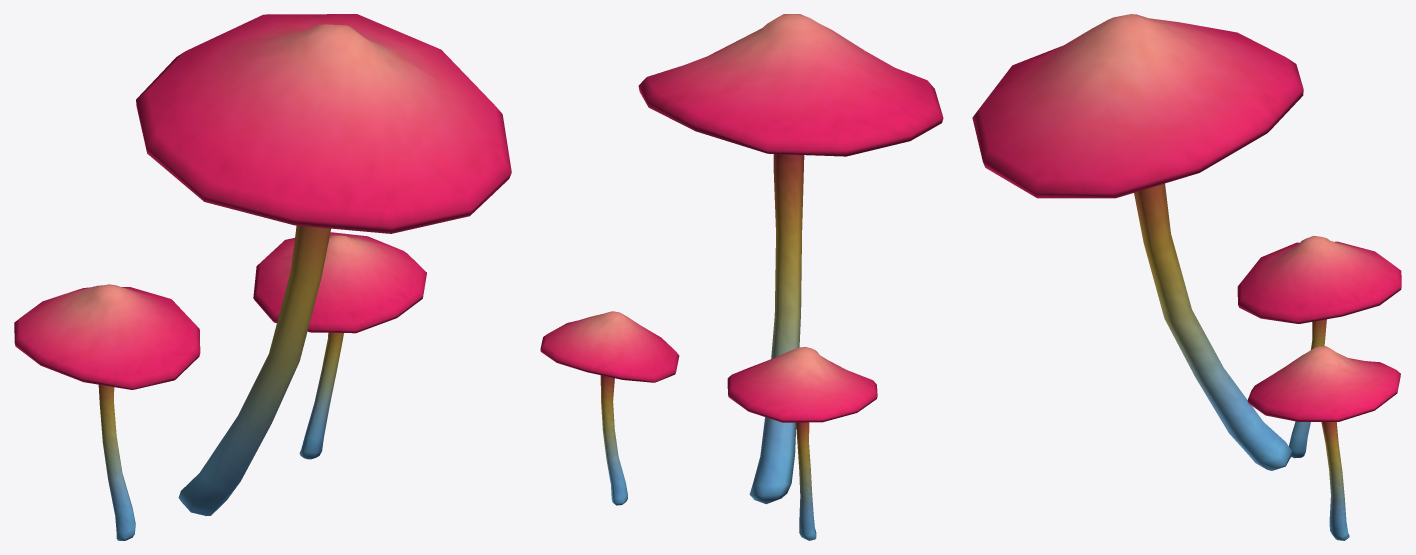
File: Cartoon Seaweed_13-2-46.fbx
3 renders of one model, left to right at view 1: azimuth 30°, elevation 25°; view 2: azimuth 150°, elevation 25°; view 3: azimuth 270°, elevation 25°, orthographic. The views are drawn at different scales.
Visible parts, largest first — view 1: Cartoon Seaweed_13.2.46; view 2: Cartoon Seaweed_13.2.46; view 3: Cartoon Seaweed_13.2.46.
Part boxes in pixels (x1,y1,x2,y2): Cartoon Seaweed_13.2.46: (14, 14, 511, 540); Cartoon Seaweed_13.2.46: (540, 14, 943, 540); Cartoon Seaweed_13.2.46: (972, 14, 1401, 540).
Bounding box in the file's own units: 10.6 × 14.26 × 11.34.
1 material, 1 textured.
